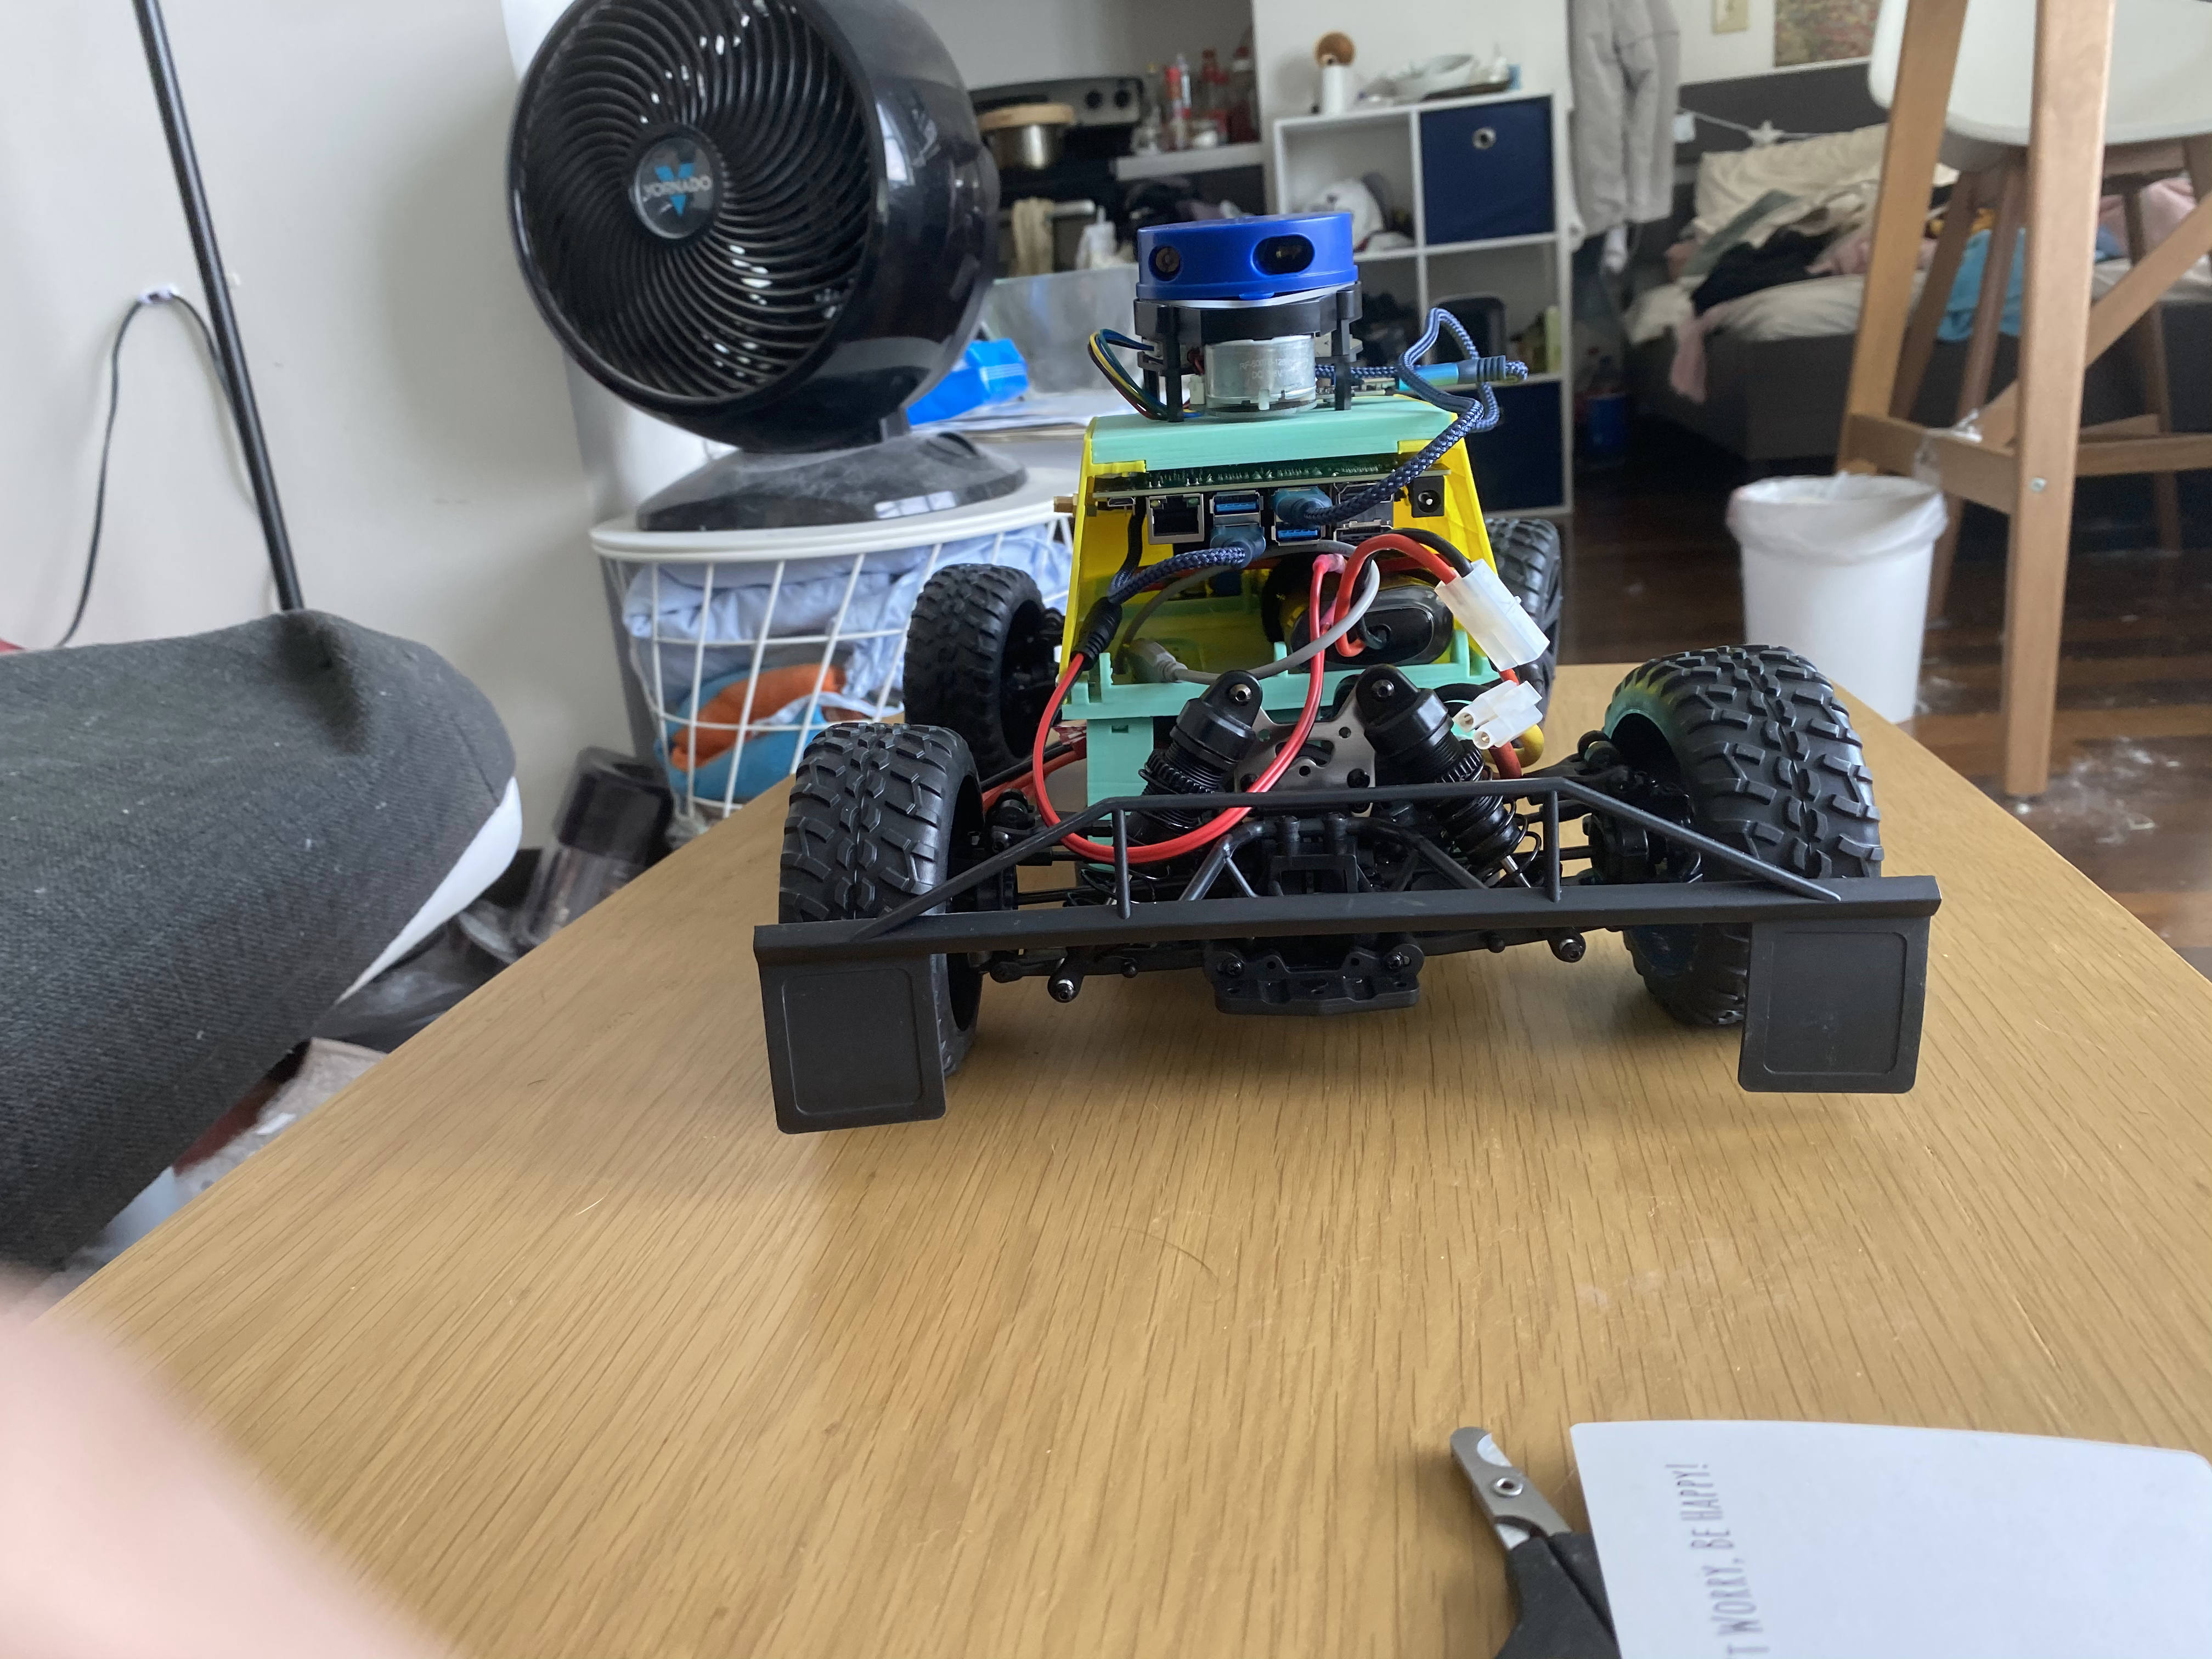mushr_car: (723, 206, 1939, 1197)
